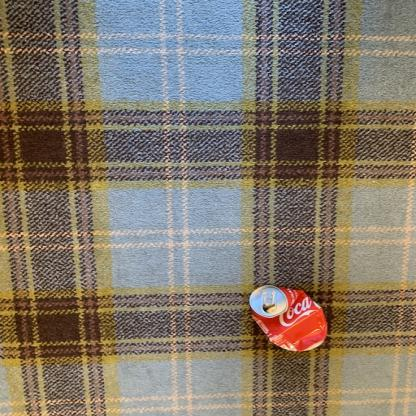trash: (245, 282, 332, 351)
